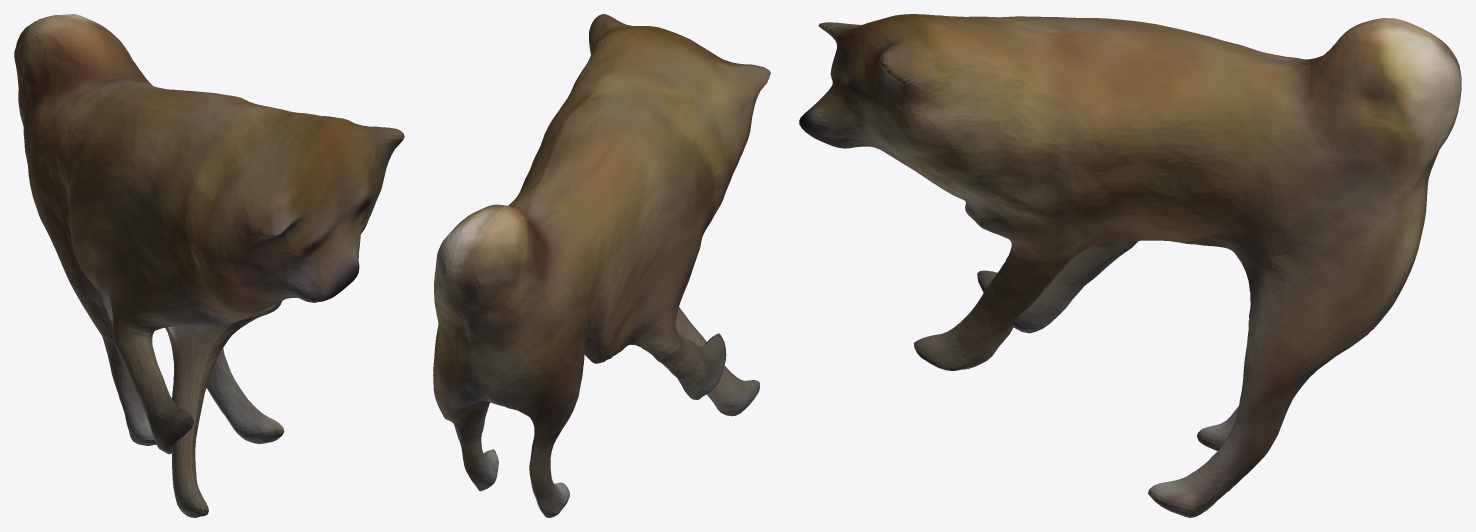
The model's file is shiba-haru-1002-mesh-00002.obj.
The picture shows the model from 3 angles, left to right: view 1: azimuth 30°, elevation 25°; view 2: azimuth 150°, elevation 25°; view 3: azimuth 270°, elevation 25°; orthographic projection. The views are drawn at different scales.
Size of the model in its own units: 0.0372 by 0.0759 by 0.0964.
